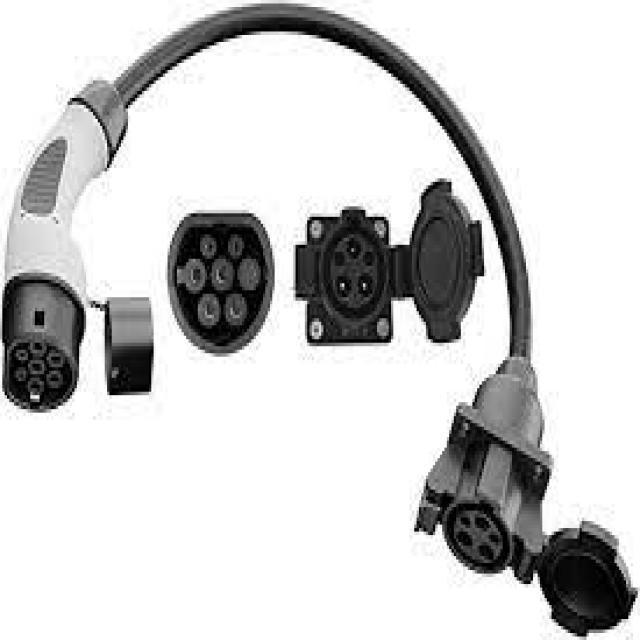Type 2: (146, 185, 288, 378), (3, 319, 90, 445)
